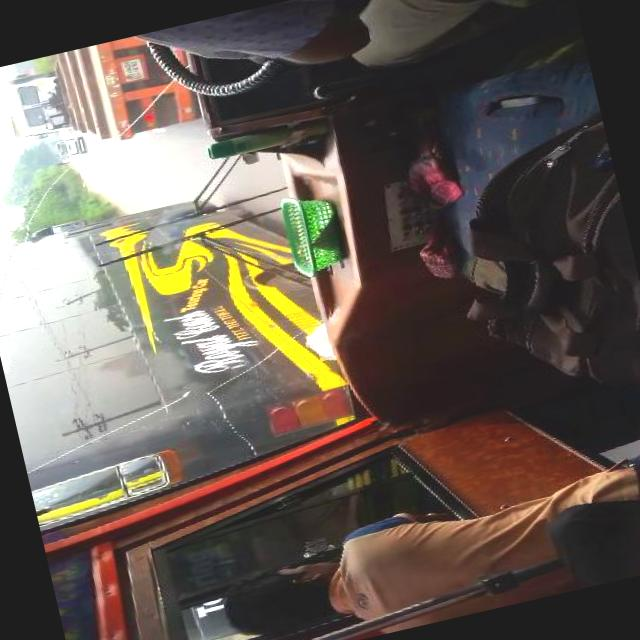bus: (0, 170, 350, 521)
car: (54, 136, 84, 160)
truck: (0, 27, 192, 163)
